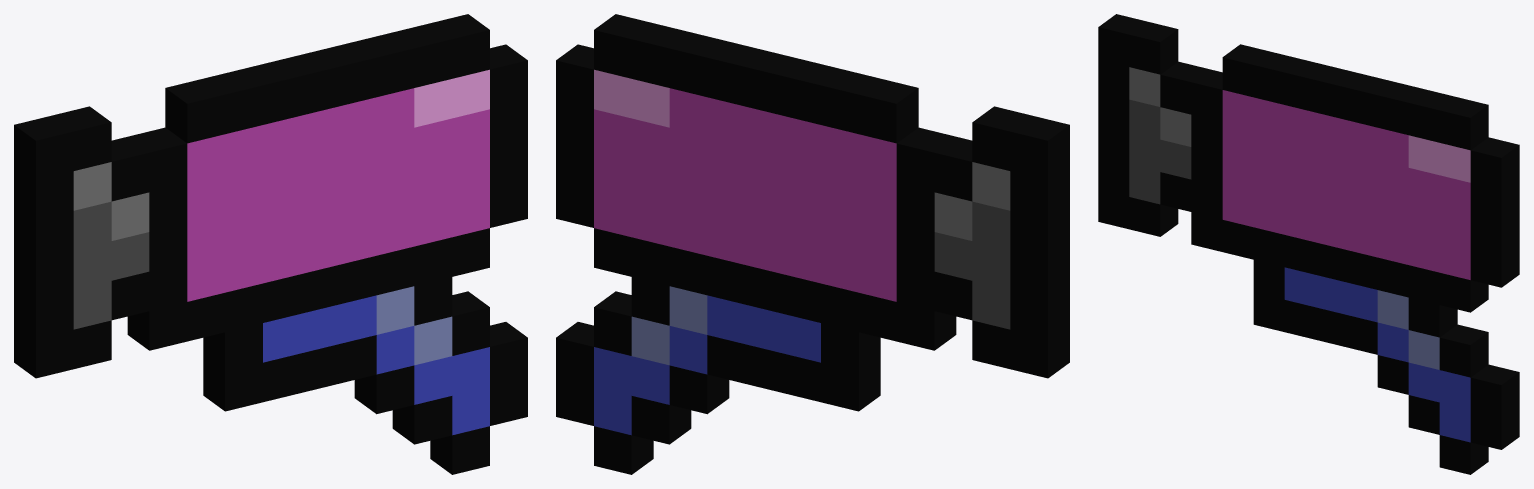
File: Magenta Paintball Gun.glb
3 views of the same model, side by side, from view 1: azimuth 30°, elevation 25°; view 2: azimuth 150°, elevation 25°; view 3: azimuth 330°, elevation 25° (orthographic). The views are drawn at different scales.
Parts seen in each view (by area): view 1: generated(Clone); view 2: generated(Clone); view 3: generated(Clone).
Part boxes in pixels (x1,y1,x2,y2): generated(Clone): (14,14,527,474); generated(Clone): (556,14,1069,474); generated(Clone): (1098,14,1519,474).
Size of the model in its own units: 13 by 11 by 1.
Materials: 1 (1 with a texture image).
